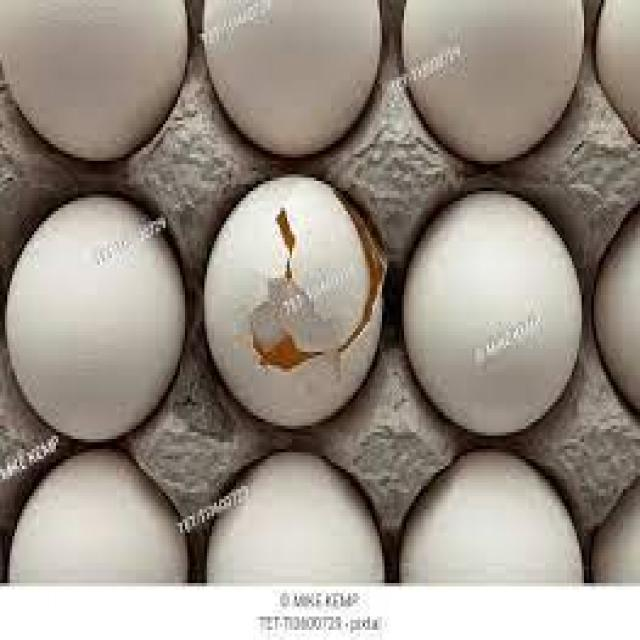biodegradable: (200, 166, 394, 444), (9, 208, 192, 442), (418, 194, 578, 416), (2, 2, 180, 146), (404, 14, 578, 142), (23, 456, 175, 596), (220, 464, 372, 592), (423, 474, 572, 580), (594, 6, 640, 120), (618, 201, 640, 389), (606, 500, 640, 596)
